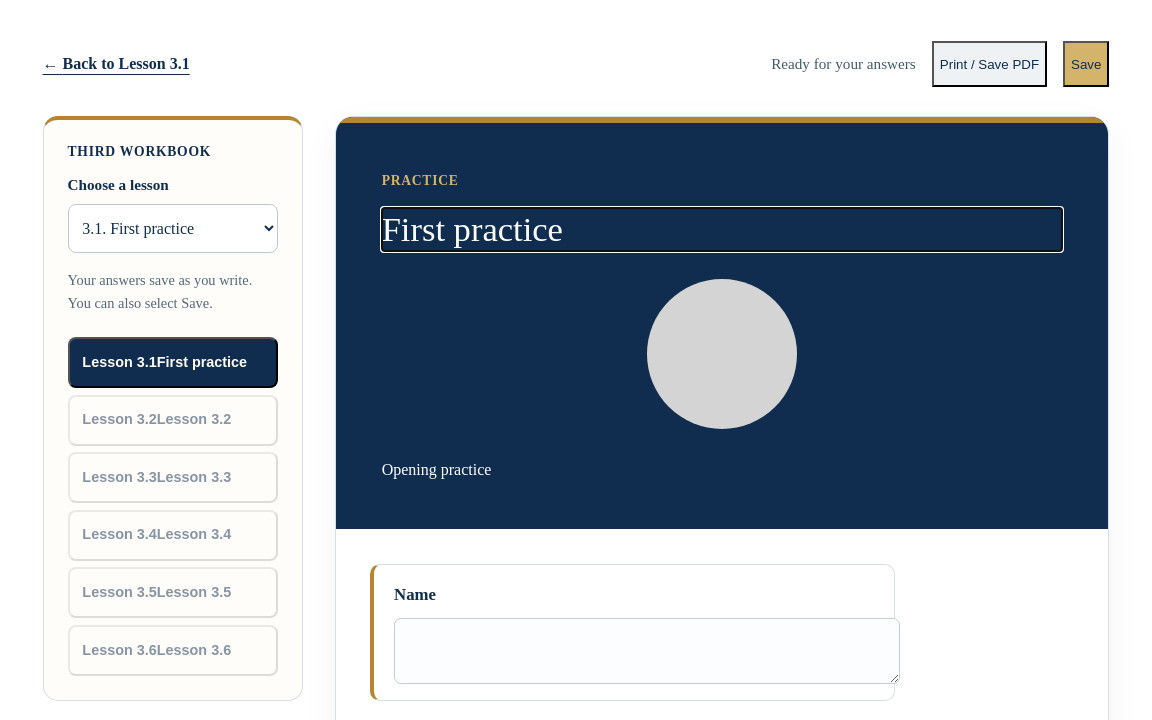
Scenario: opens and saves the third workbook through its own endpoint with compact fields
The width and height of the screenshot is (1152, 720).
Expected: the heading "First practice" is shown, x1=382 y1=210 x2=563 y2=248
Type "Practice learner" into the text box labelled "Name". click: {"x": 647, "y": 651}
box: x1=394 y1=618 x2=900 y2=684
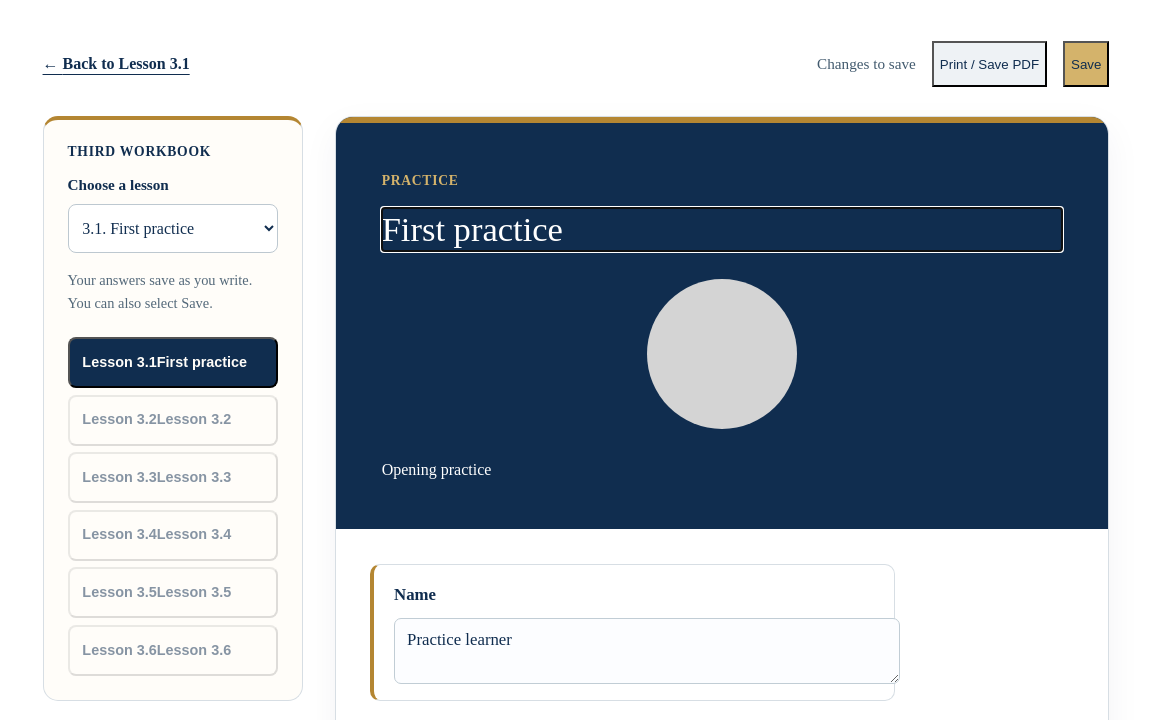
Click the button "Save". click: {"x": 1086, "y": 64}
box: x1=1063 y1=41 x2=1110 y2=87
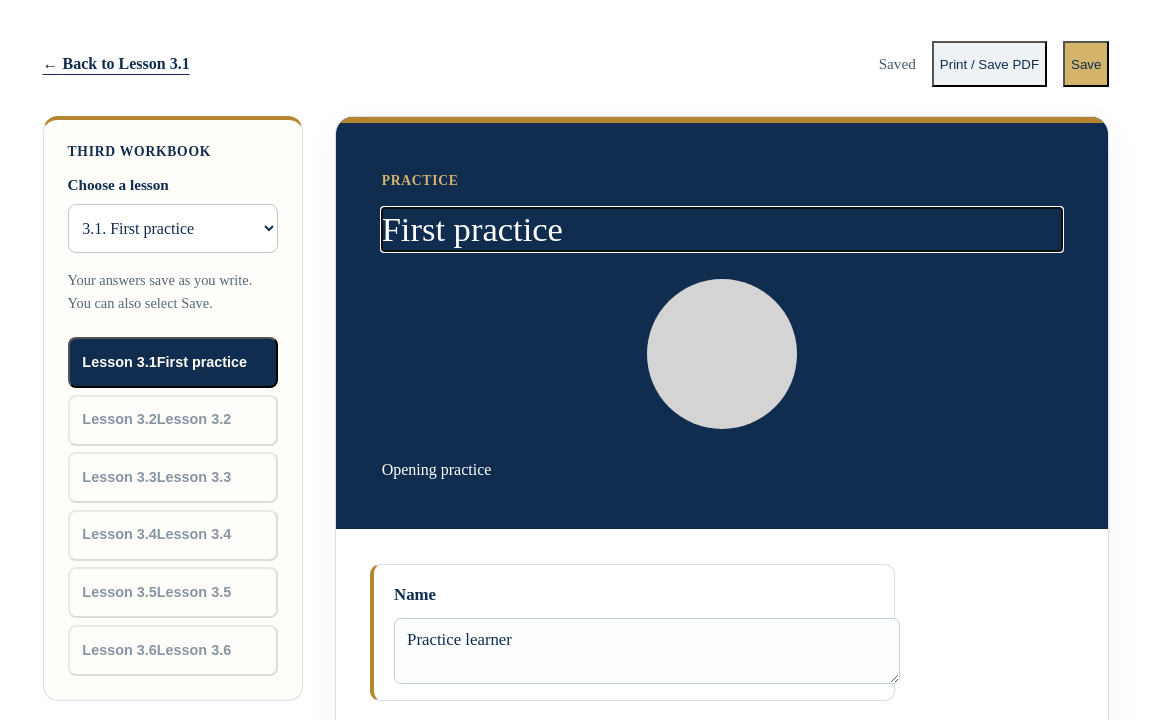
Result: the text "Saved" is shown at x1=879 y1=55 x2=916 y2=73
